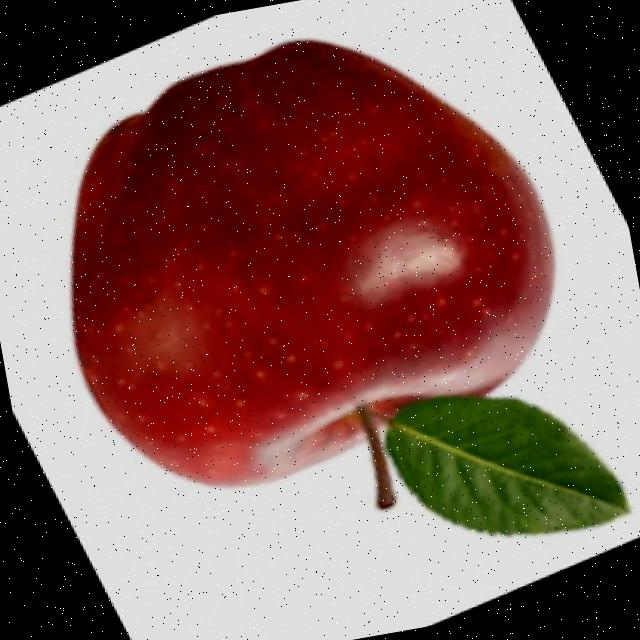Ripe: (19, 0, 591, 513)
